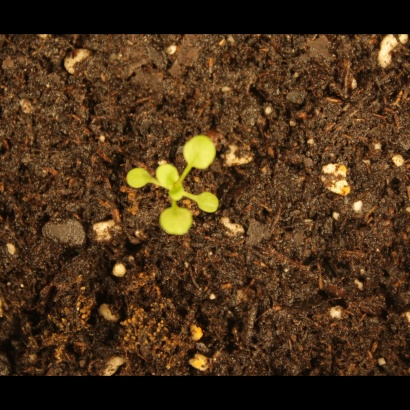leaf: (154, 202, 196, 239), (181, 132, 220, 171), (122, 163, 154, 192), (195, 187, 224, 218), (156, 162, 180, 189), (165, 180, 188, 203)
